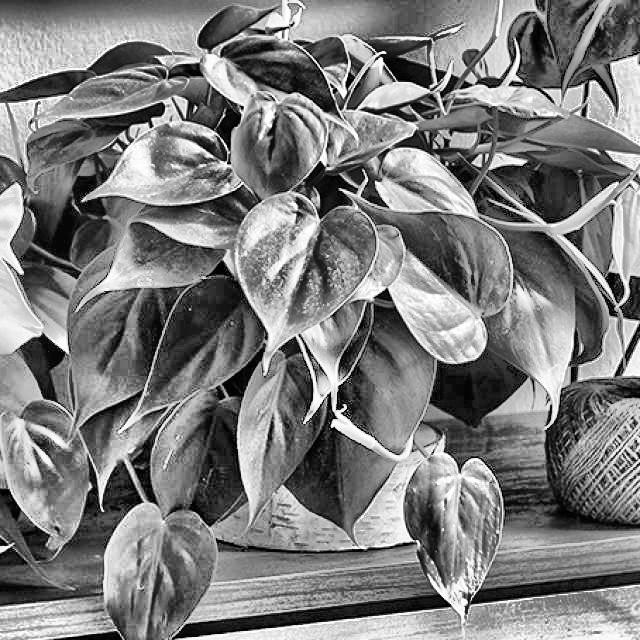plants: (19, 21, 472, 578)
